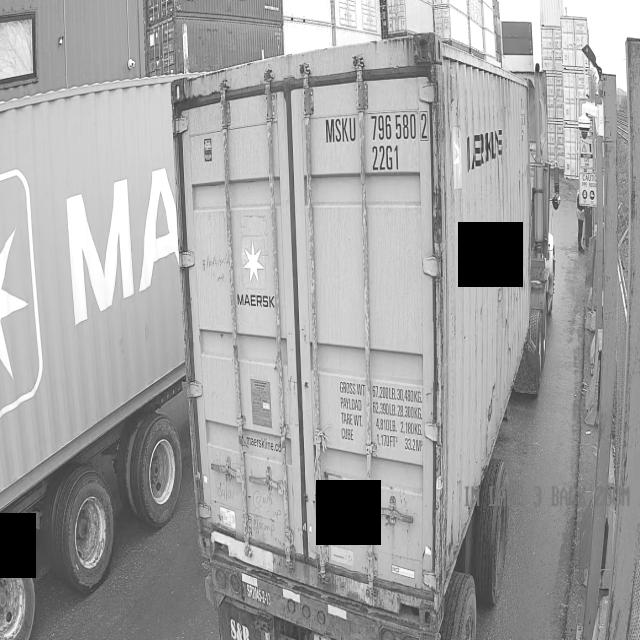container_company_logo: (235, 235, 273, 317)
container_number: (324, 114, 431, 176)
other_container_info: (337, 373, 423, 456)
truck_with_container: (173, 33, 560, 640), (0, 78, 185, 640)
